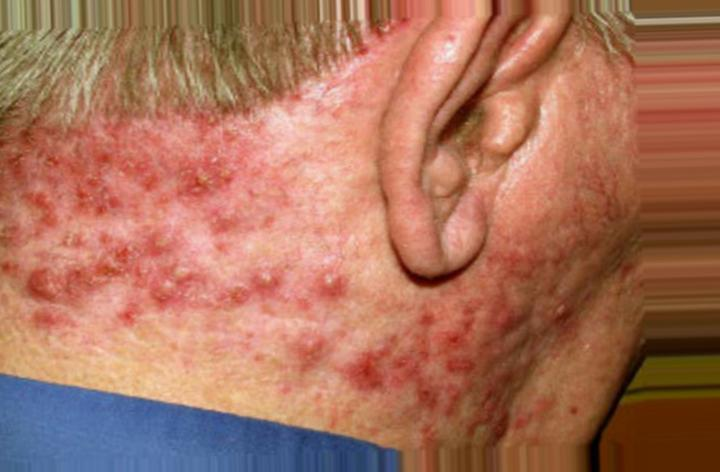Folliculitis: (9, 110, 356, 378)
